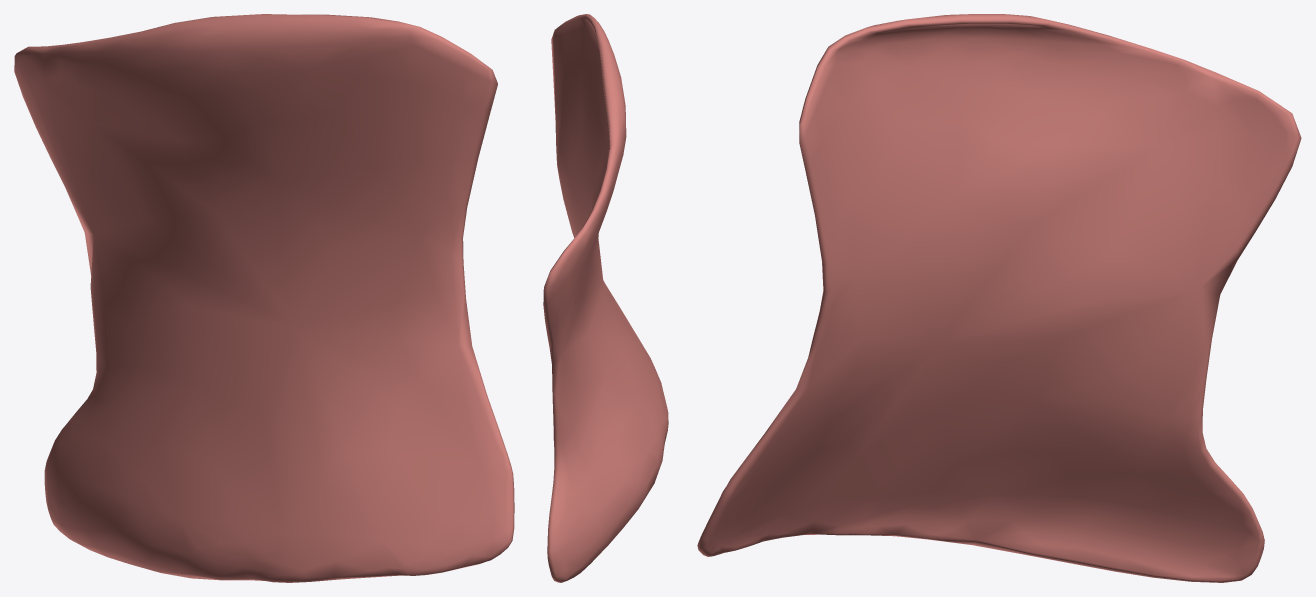
3 renders of one model, left to right at view 1: azimuth 30°, elevation 25°; view 2: azimuth 150°, elevation 25°; view 3: azimuth 270°, elevation 25°, orthographic. The views are drawn at different scales.
Visible parts, largest first — view 1: ZA_077a35389dcf9ee3; view 2: ZA_077a35389dcf9ee3; view 3: ZA_077a35389dcf9ee3.
Part boxes in pixels (x1,y1,x2,y2): ZA_077a35389dcf9ee3: (14,14,514,582); ZA_077a35389dcf9ee3: (543,14,668,582); ZA_077a35389dcf9ee3: (697,14,1301,582).
Bounding box in the file's own units: 0.0134 × 0.0309 × 0.0273.
